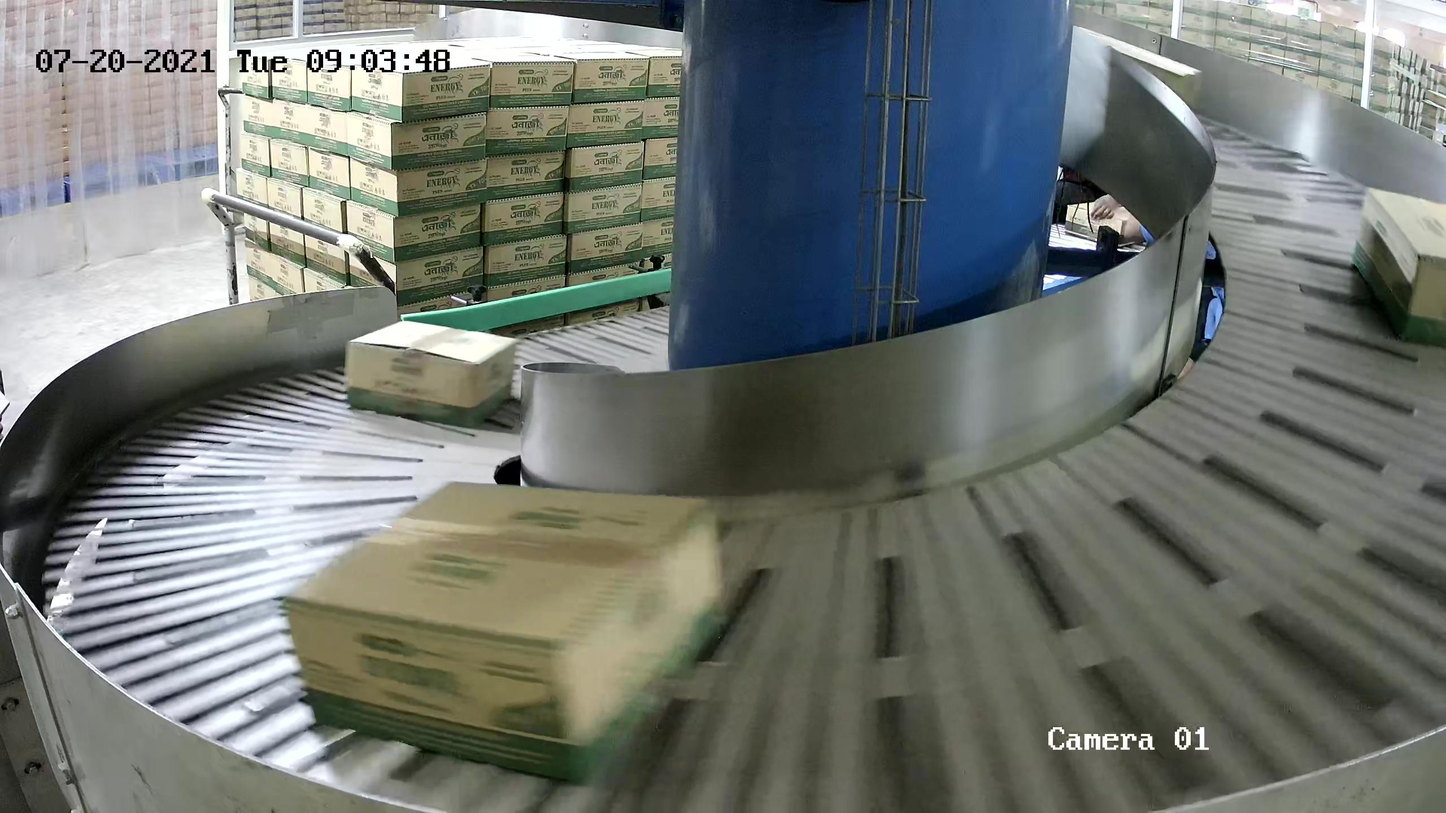Box: (280, 477, 731, 786), (343, 319, 522, 429), (1351, 185, 1446, 347)
